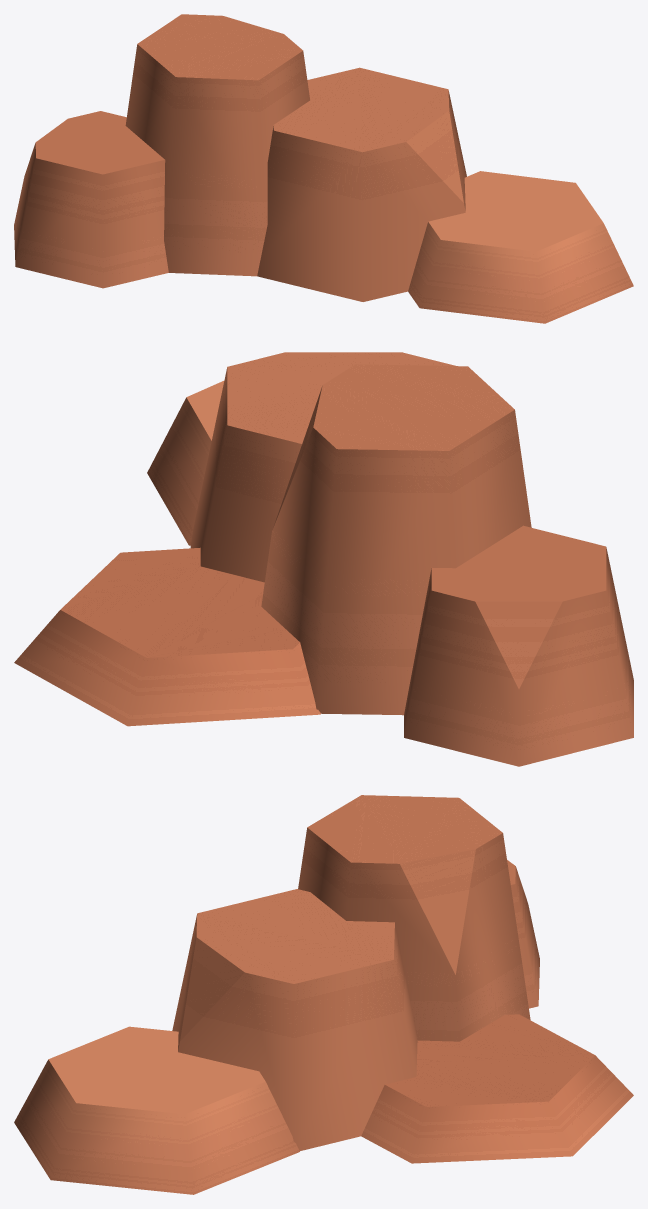
File: detail-dirt.glb
3 renders of one model, top to bottom at view 1: azimuth 30°, elevation 25°; view 2: azimuth 150°, elevation 25°; view 3: azimuth 270°, elevation 25°, orthographic. The views are drawn at different scales.
Visible parts, largest first — view 1: detail-dirt; view 2: detail-dirt; view 3: detail-dirt.
Part boxes in pixels (x1,y1,x2,y2): detail-dirt: [14, 14, 633, 323]; detail-dirt: [14, 352, 633, 766]; detail-dirt: [14, 795, 633, 1194].
Bounding box in the file's own units: 0.7028 × 0.2653 × 0.712.
1 material, 1 textured.
